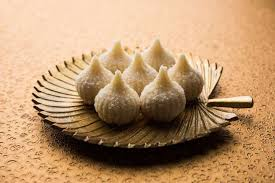modak: (140, 68, 189, 123), (165, 51, 212, 103), (70, 55, 119, 101), (101, 75, 142, 122), (116, 57, 160, 88), (139, 38, 180, 68), (96, 37, 131, 69)
